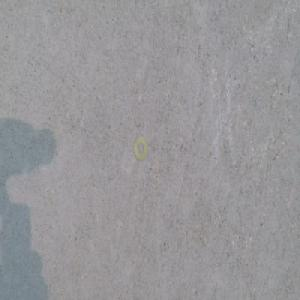Washer: (134, 135, 148, 161)
